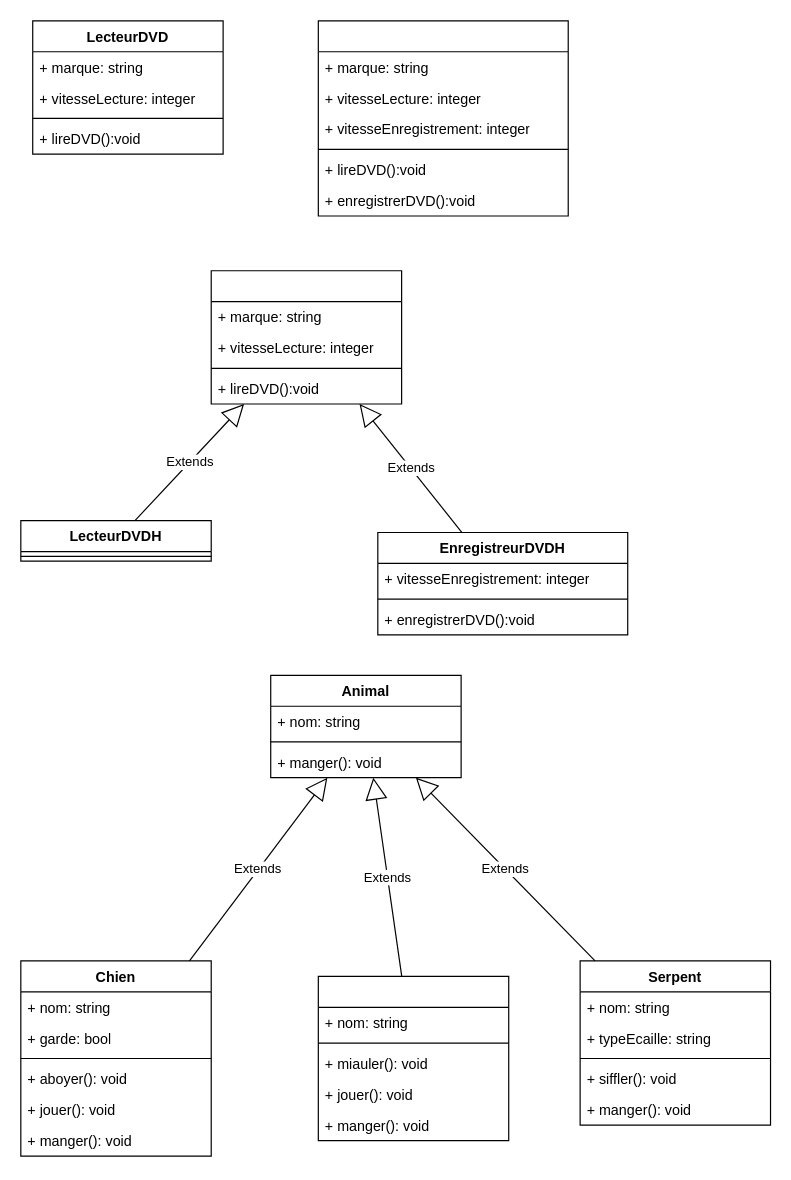
Image size: 791x1180. Some labels were removed from this diagram. Here are the shapes that lost their labels. From the top down, the box of each, then its label:
(317, 20, 568, 216): EnregistreurDVD
(210, 270, 402, 404): AppareilDVD
(317, 975, 509, 1141): Chat
